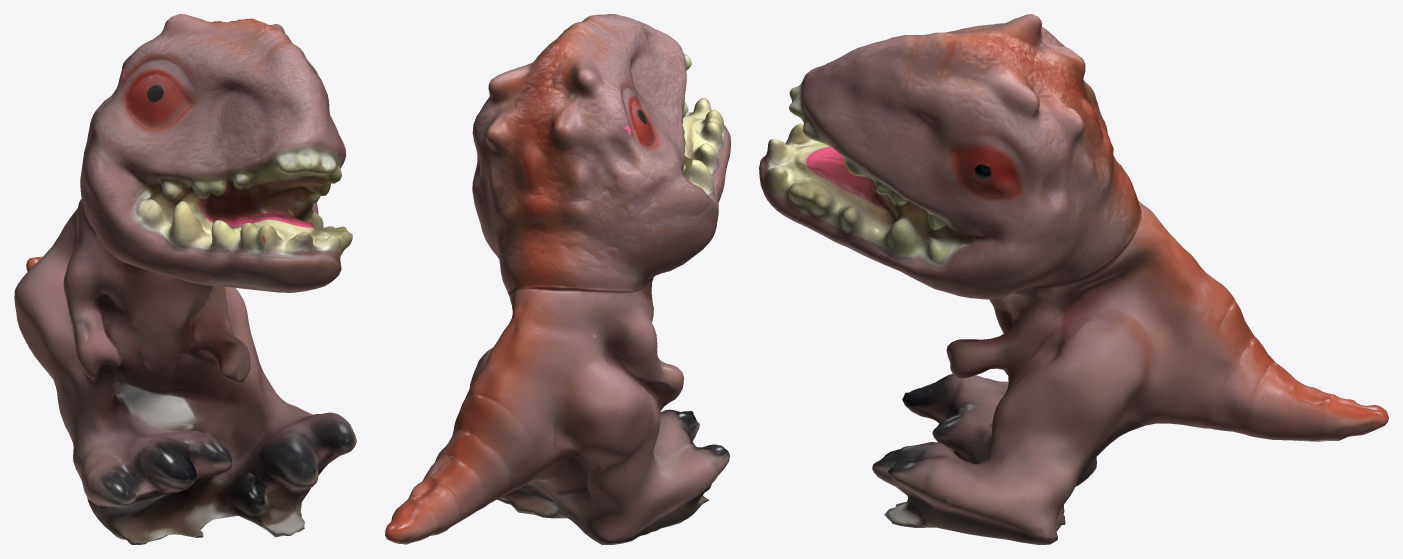
File: dinosaur.obj
3 views of the same model, side by side, from view 1: azimuth 30°, elevation 25°; view 2: azimuth 150°, elevation 25°; view 3: azimuth 270°, elevation 25° (orthographic). The views are drawn at different scales.
Visible parts, largest first — view 1: mesh_0; view 2: mesh_0; view 3: mesh_0.
Boxes of the visible parts, left/top/right/bottom form: mesh_0: left=14, top=14, right=356, bottom=544; mesh_0: left=385, top=14, right=730, bottom=544; mesh_0: left=759, top=14, right=1388, bottom=544.
Bounding box in the file's own units: 0.0688 × 0.1327 × 0.1531.
1 material, 1 textured.
